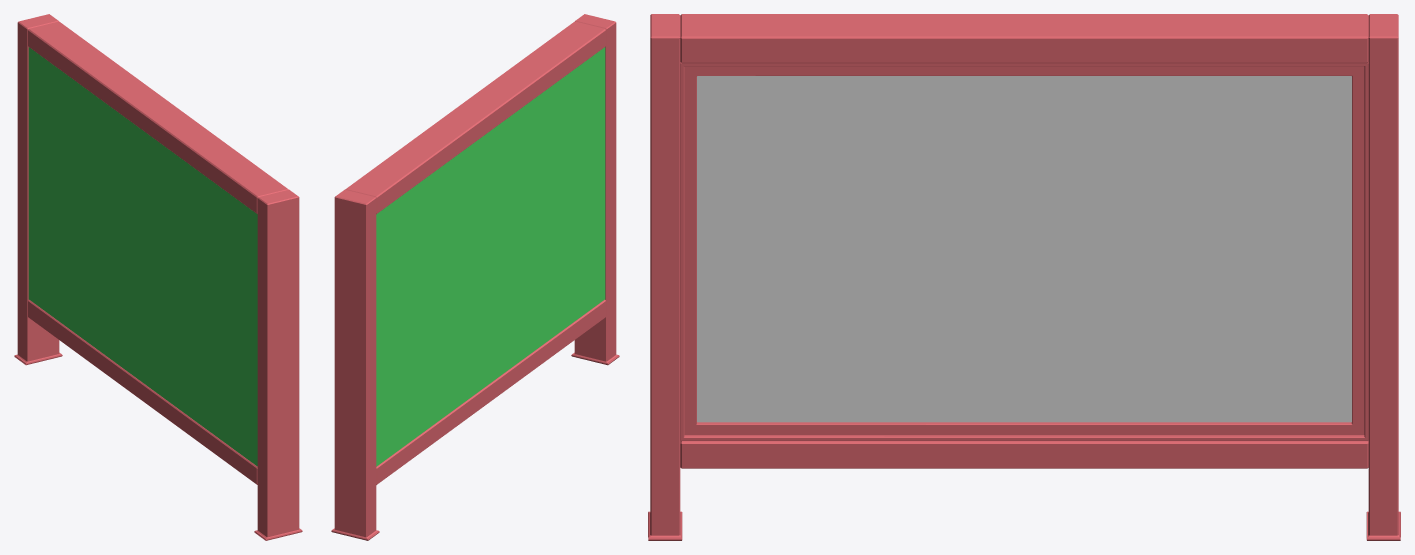
The model's file is MESH_InfoBoard.fbx.
The picture shows the model from 3 angles, left to right: view 1: azimuth 30°, elevation 25°; view 2: azimuth 150°, elevation 25°; view 3: azimuth 270°, elevation 25°; orthographic projection. The views are drawn at different scales.
Visible parts, largest first — view 1: InfoBoard; view 2: InfoBoard; view 3: Plane.003, InfoBoard.
Boxes of the visible parts, <box> form: InfoBoard: <box>14,14,302,540</box>; InfoBoard: <box>331,14,619,540</box>; Plane.003: <box>697,76,1351,422</box>; InfoBoard: <box>648,14,1400,540</box>.
Bounding box in the file's own units: 23.13 × 200 × 272.
